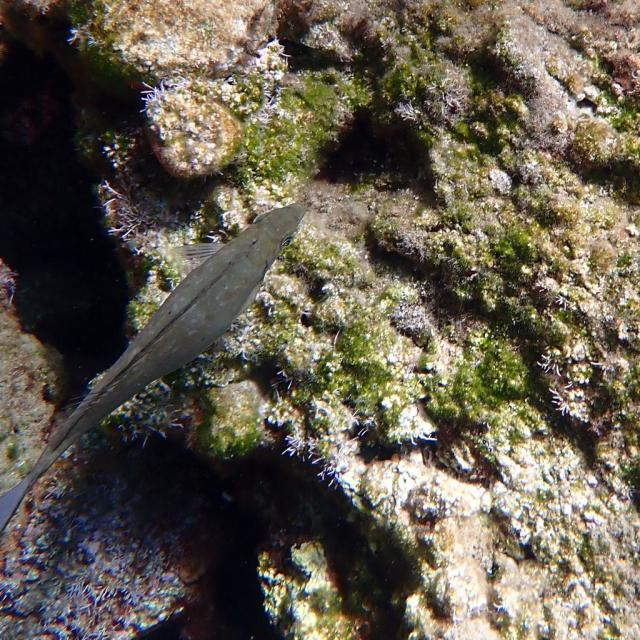Sokar Baligi: (0, 180, 315, 544)
